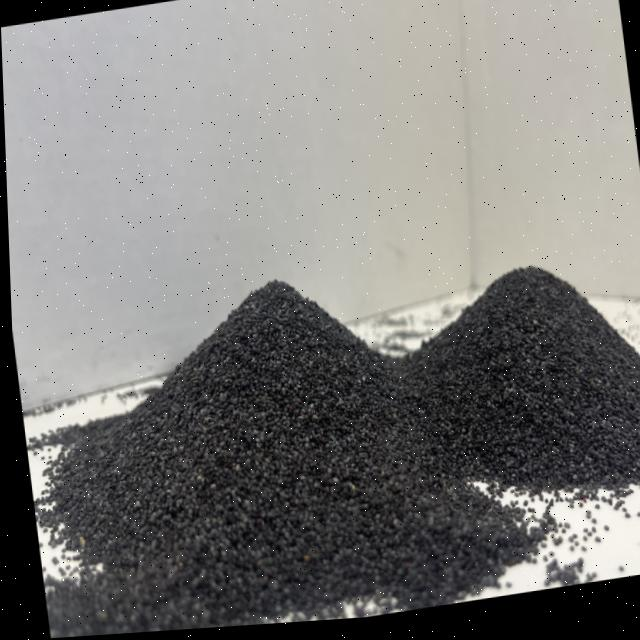Poppy Seeds: (12, 197, 640, 640)
